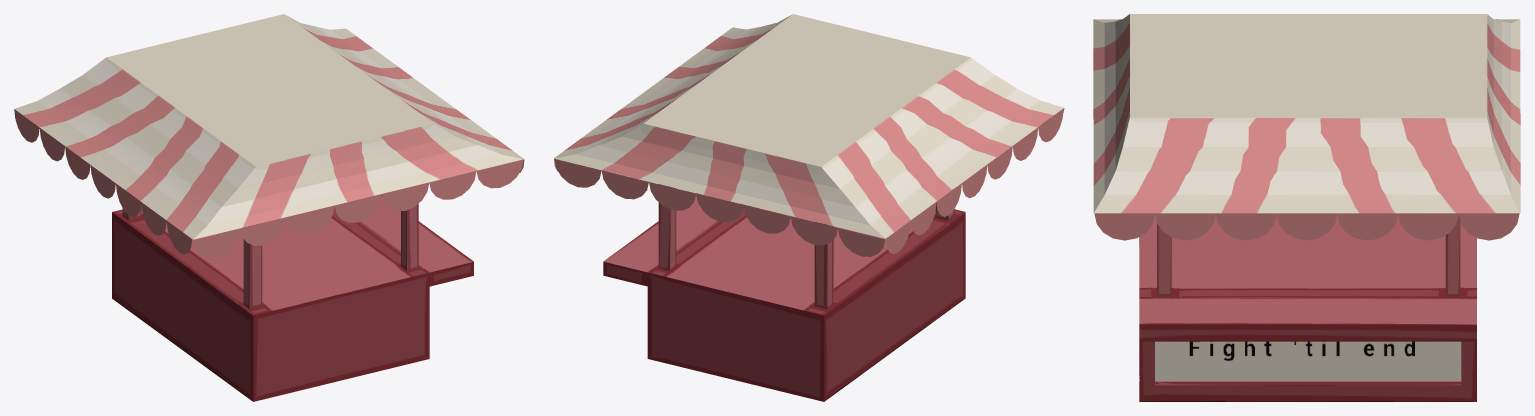
The model's file is Sales stall.fbx.
3 views of the same model, side by side, from view 1: azimuth 30°, elevation 25°; view 2: azimuth 150°, elevation 25°; view 3: azimuth 270°, elevation 25° (orthographic). The views are drawn at different scales.
Parts seen in each view (by area): view 1: Circle006, Box053; view 2: Circle006, Box053; view 3: Circle006, Box053.
Boxes of the visible parts, x1,y1,x2,y2 form: Circle006: (14,14,524,257); Box053: (112,192,473,401); Circle006: (554,14,1064,256); Box053: (603,184,965,401); Circle006: (1093,14,1520,240); Box053: (1139,213,1476,401).
Bounding box in the file's own units: 397 × 273 × 371.
2 materials, 2 textured.
